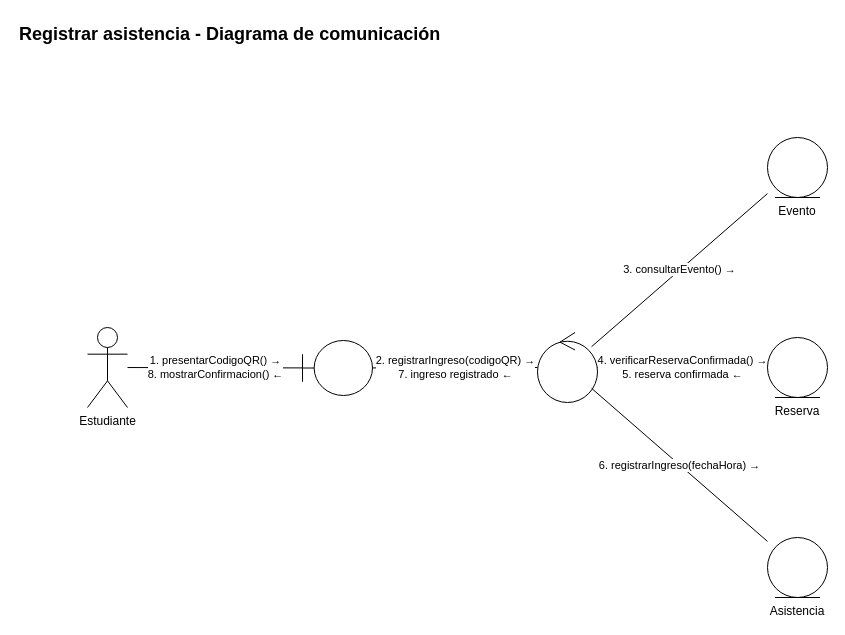
Image size: 845x635. Some labels were removed from this diagram. The box of each missing label's shape, as (x1, y1, x2, y2) in pixels:
GestiónAsistencia: (536, 332, 598, 402)
PantallaEventos: (302, 340, 372, 396)
